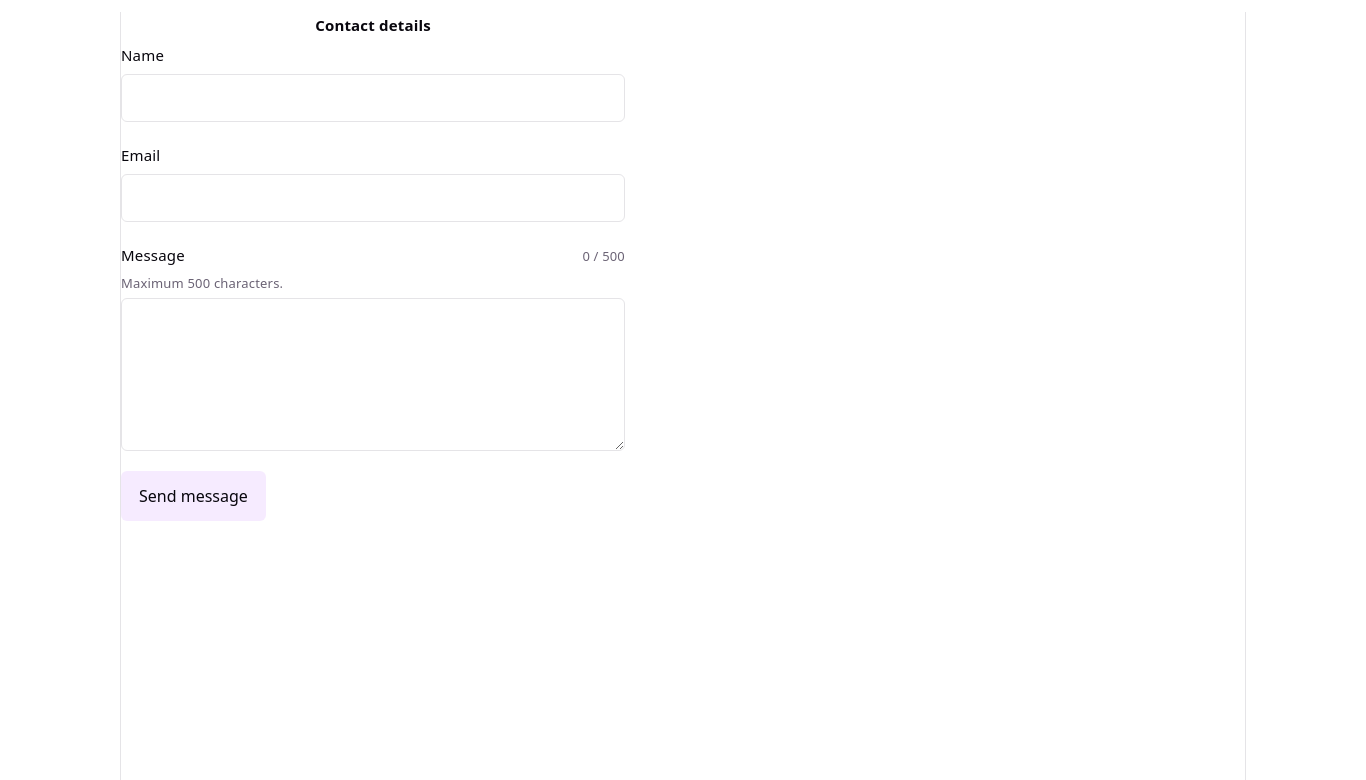
ContactForm › shows an email format error for invalid email
Type "Ada Lovelace" into the field labelled "Name" at (373, 98), box x1=121 y1=74 x2=625 y2=122
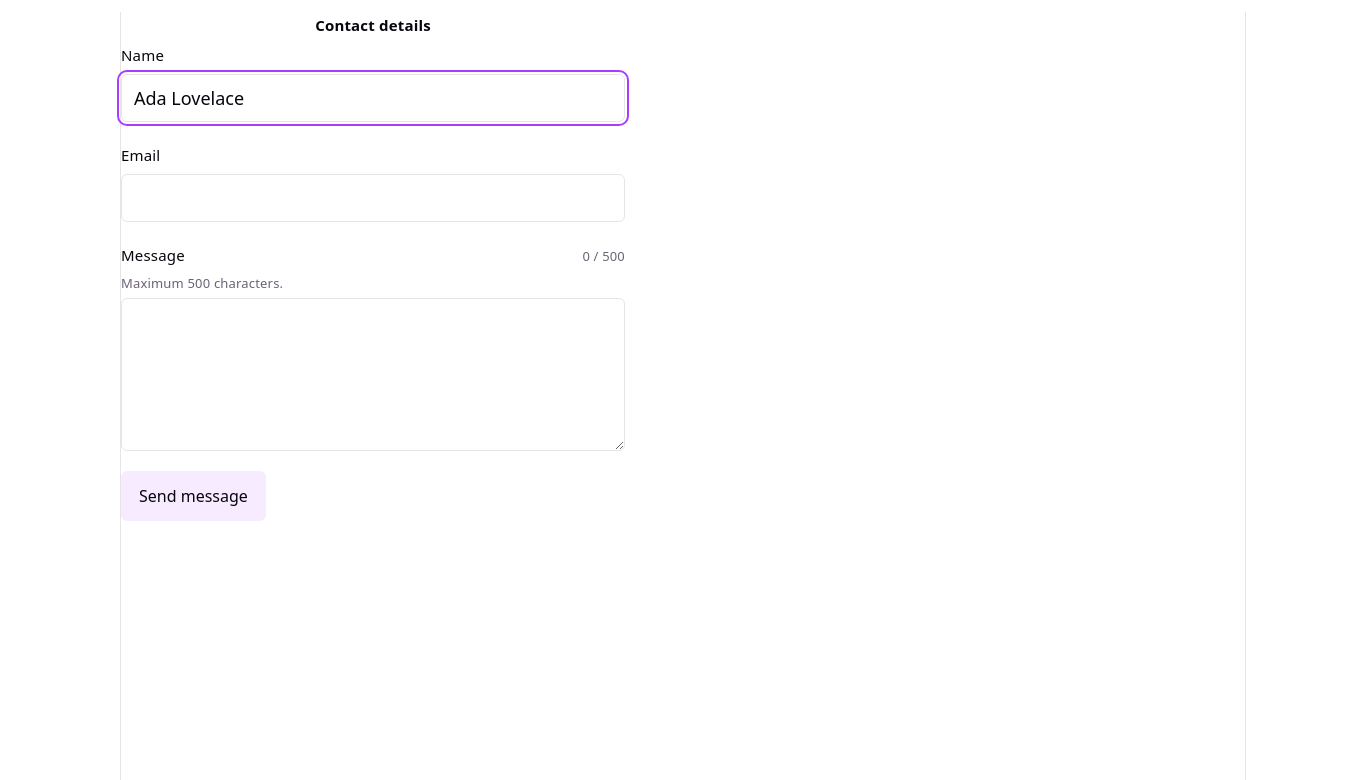
Type "not-an-email" into the field labelled "Email" at (373, 198), box x1=121 y1=174 x2=625 y2=222
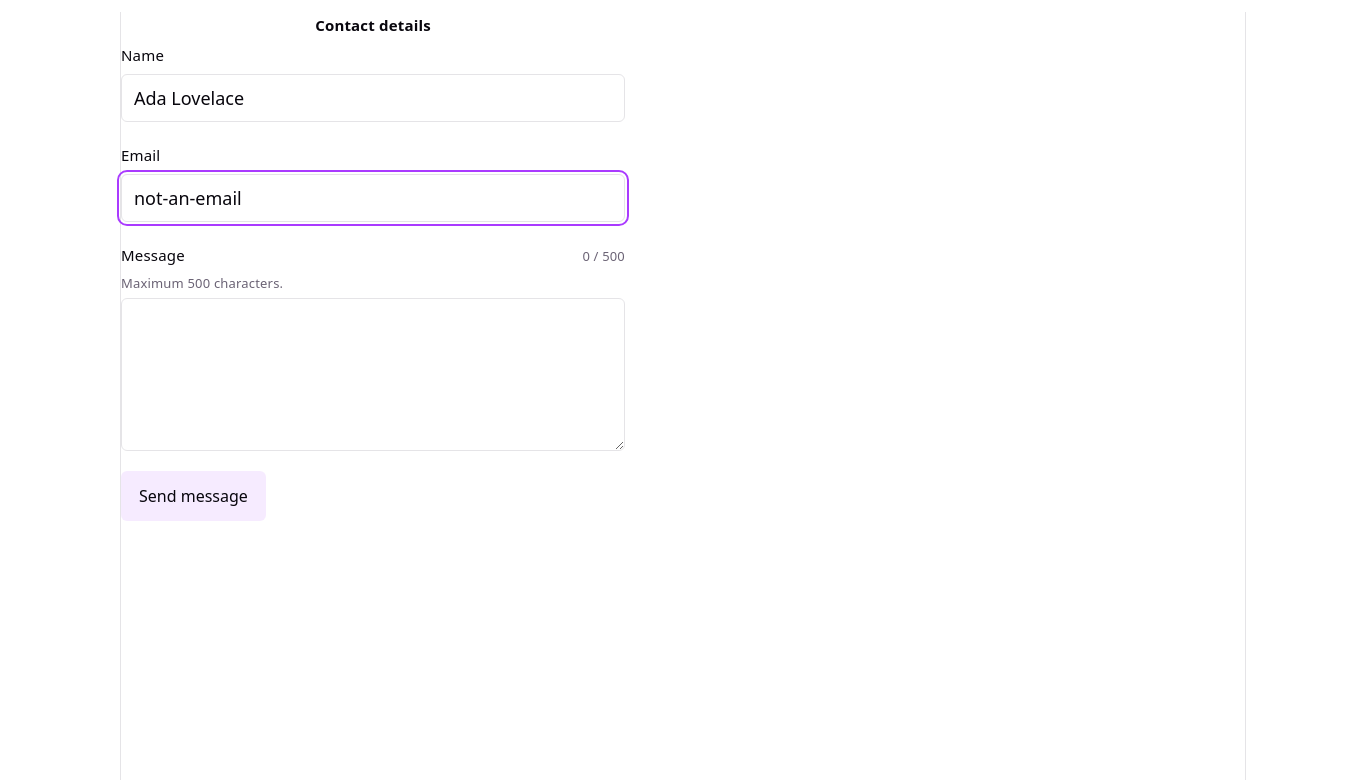
Type "Hello" into the text box labelled "Message" at (373, 374), box x1=121 y1=298 x2=625 y2=451
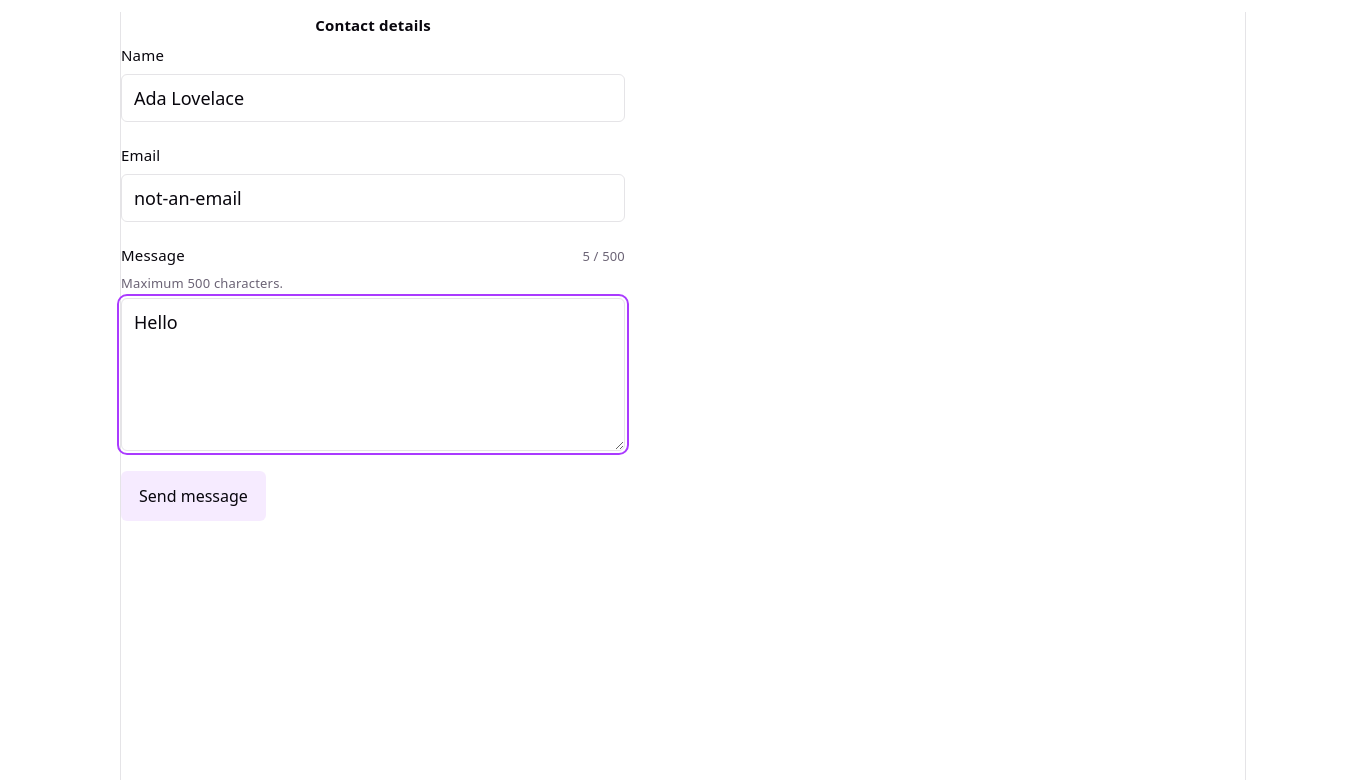
Click the button "Send message" at (193, 496), box x1=121 y1=471 x2=266 y2=521
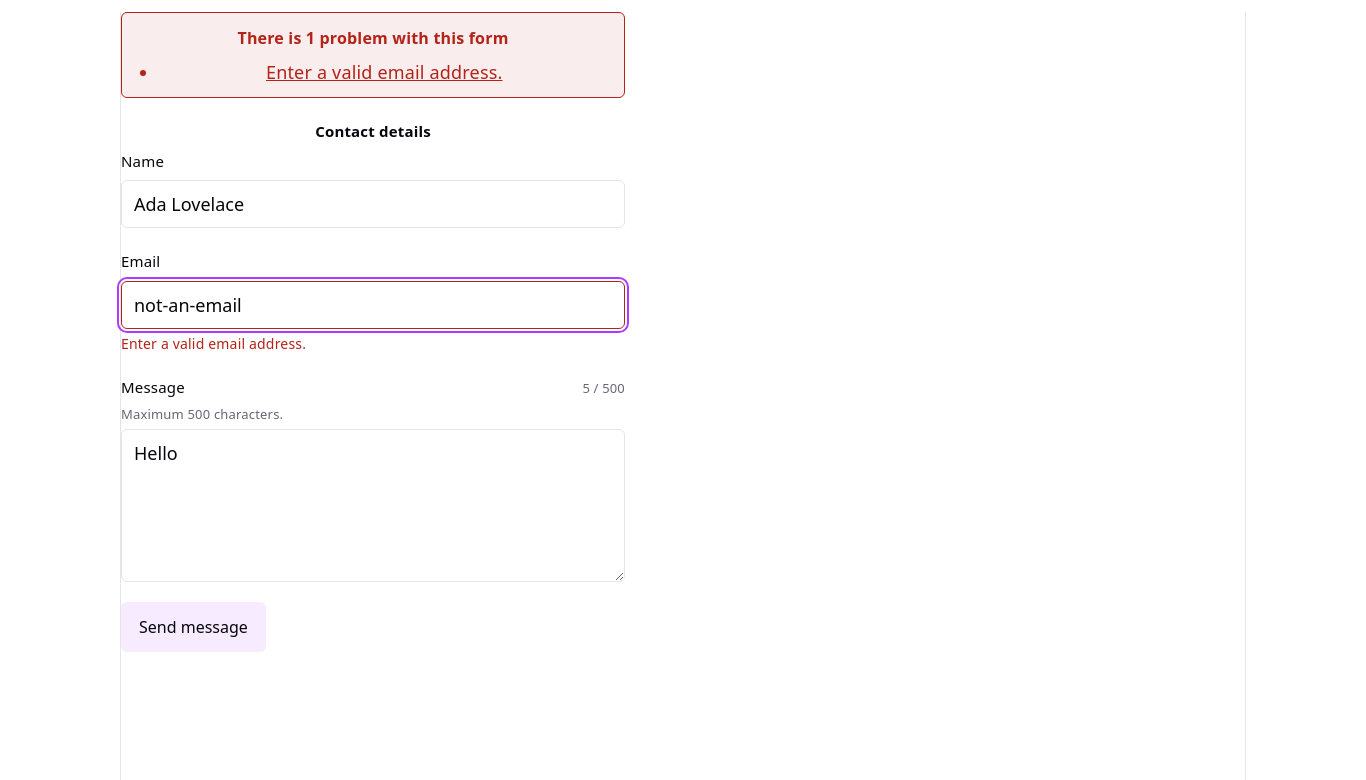
Expected: the text "Enter a valid email address." is shown, x1=121 y1=334 x2=306 y2=353
